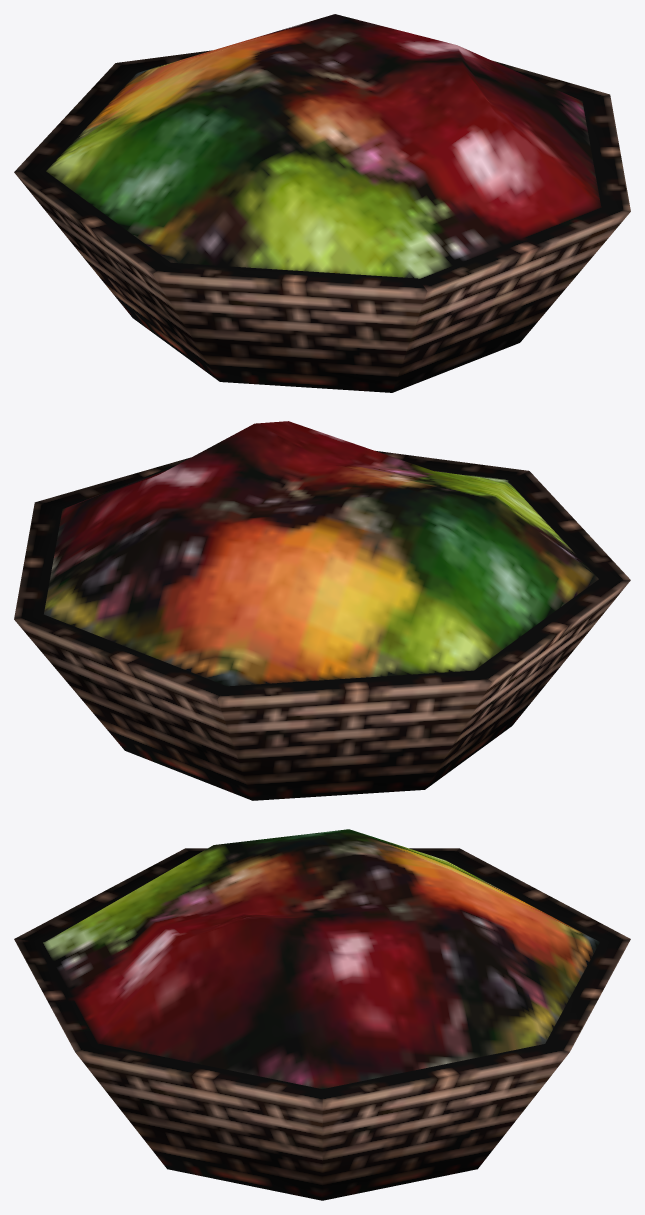
Rendered from stst157.dae.
3 renders of one model, top to bottom at view 1: azimuth 30°, elevation 25°; view 2: azimuth 150°, elevation 25°; view 3: azimuth 270°, elevation 25°, orthographic.
Parts seen in each view (by area): view 1: basket00; view 2: basket00; view 3: basket00.
Boxes of the visible parts, bbox=[...] form: basket00: bbox=[14, 14, 630, 392]; basket00: bbox=[14, 421, 630, 800]; basket00: bbox=[14, 829, 630, 1200].
Bounding box in the file's own units: 0.4919 × 0.5045 × 0.2194.
1 material, 1 textured.
